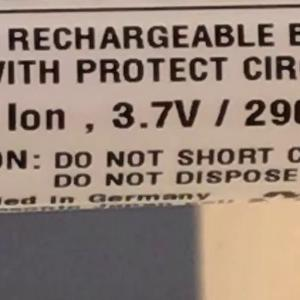keyword: (102, 89, 211, 139)
